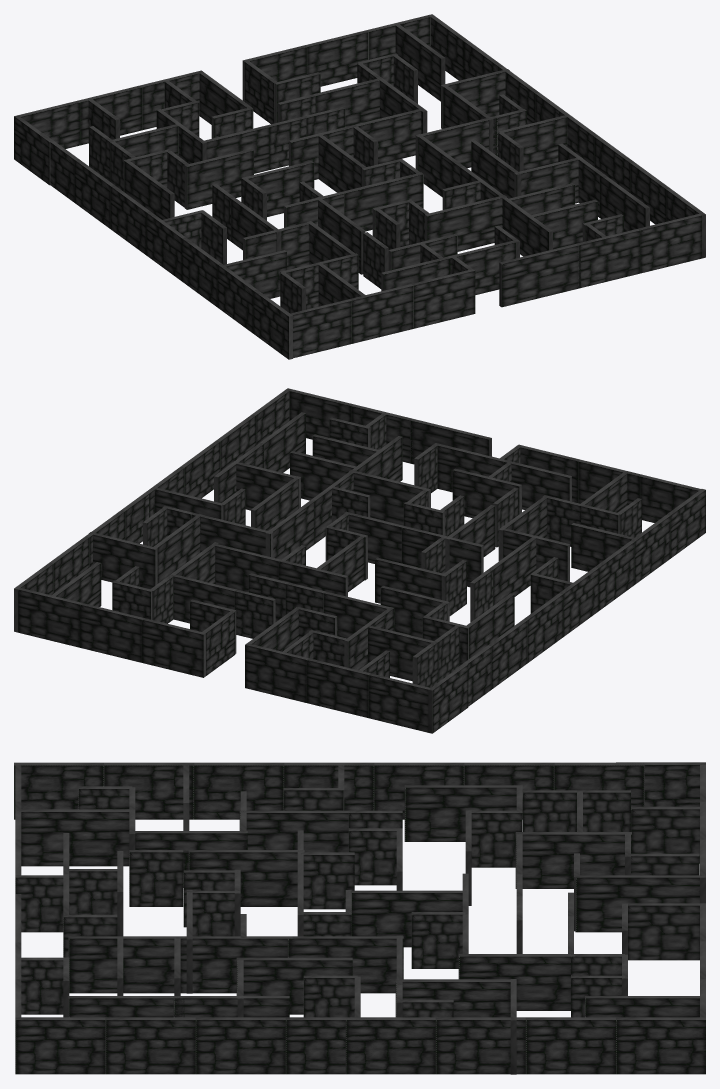
The model's file is WALLGAME.fbx.
The picture shows the model from 3 angles, top to bottom: view 1: azimuth 30°, elevation 25°; view 2: azimuth 150°, elevation 25°; view 3: azimuth 270°, elevation 25°; orthographic projection. The views are drawn at different scales.
Visible parts, largest first — view 1: Cube.030; view 2: Cube.030; view 3: Cube.030.
Part boxes in pixels (box(x1,y1,x2,y2)): Cube.030: box(14, 14, 705, 359); Cube.030: box(14, 388, 705, 733); Cube.030: box(14, 762, 705, 1074).
Size of the model in its own units: 2032 by 200 by 2304.
Materials: 1 (1 with a texture image).
